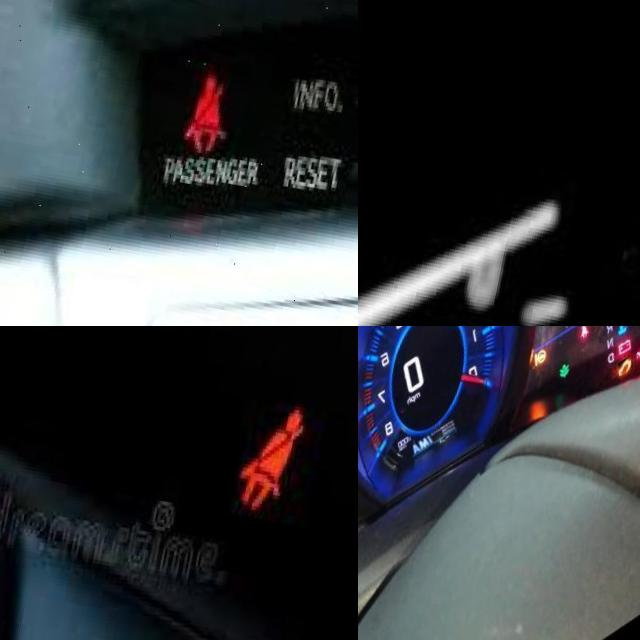Seat Belt: (245, 387, 319, 498), (196, 53, 249, 143)
